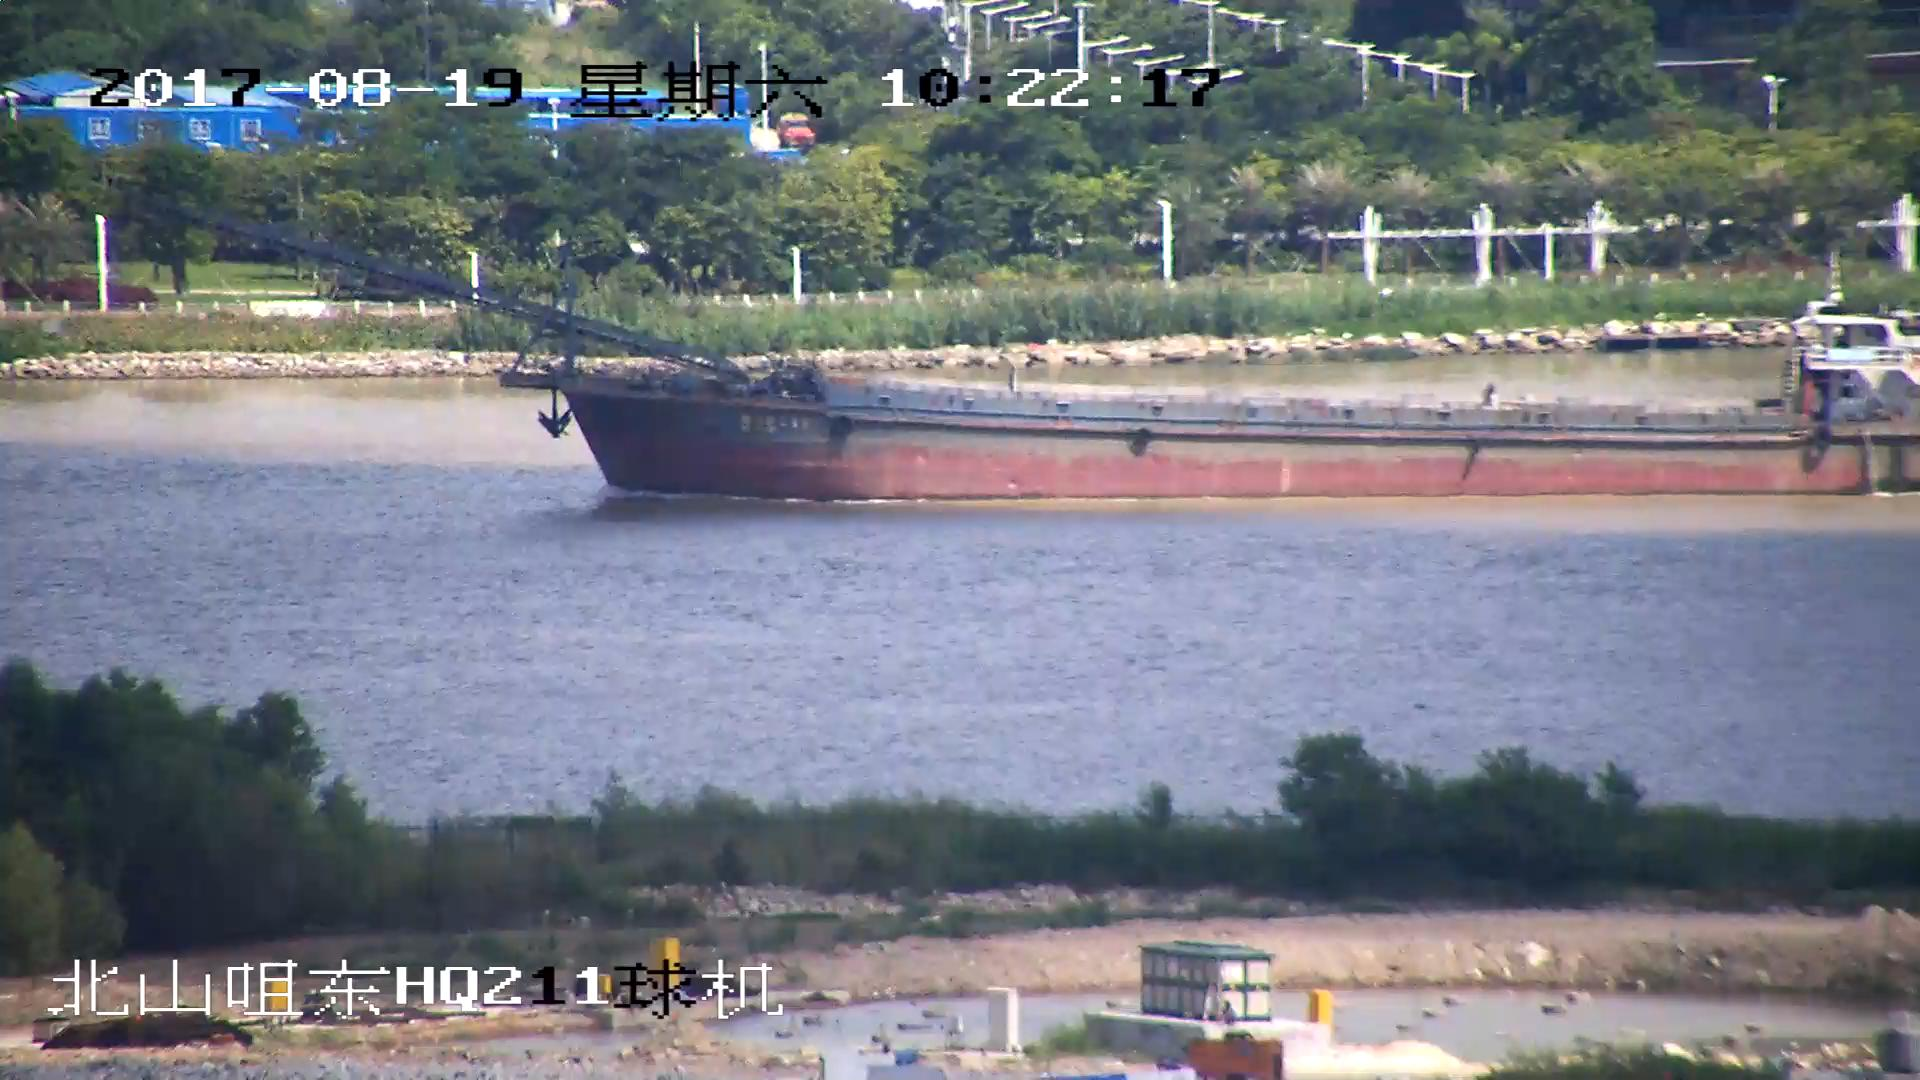bulk cargo carrier: (168, 205, 1920, 501)
